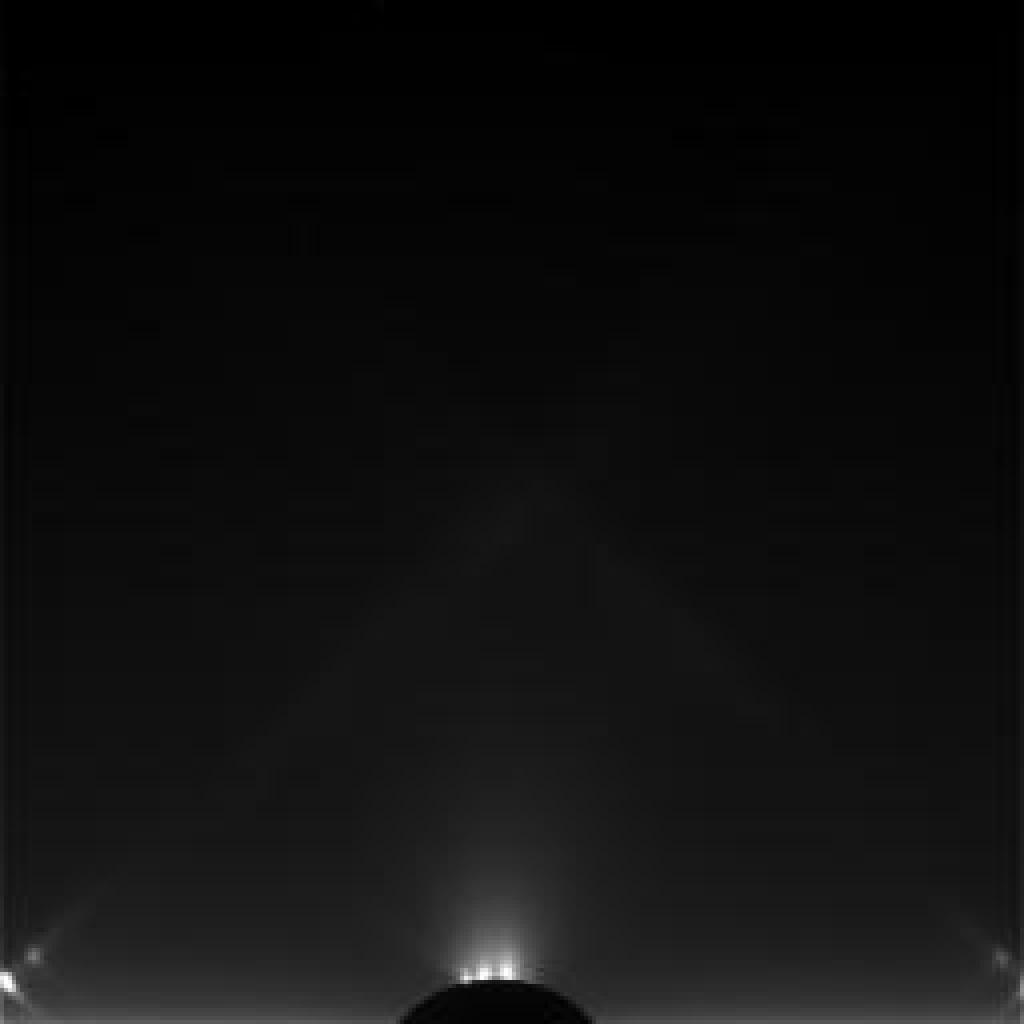plumes: (429, 862, 535, 986)
